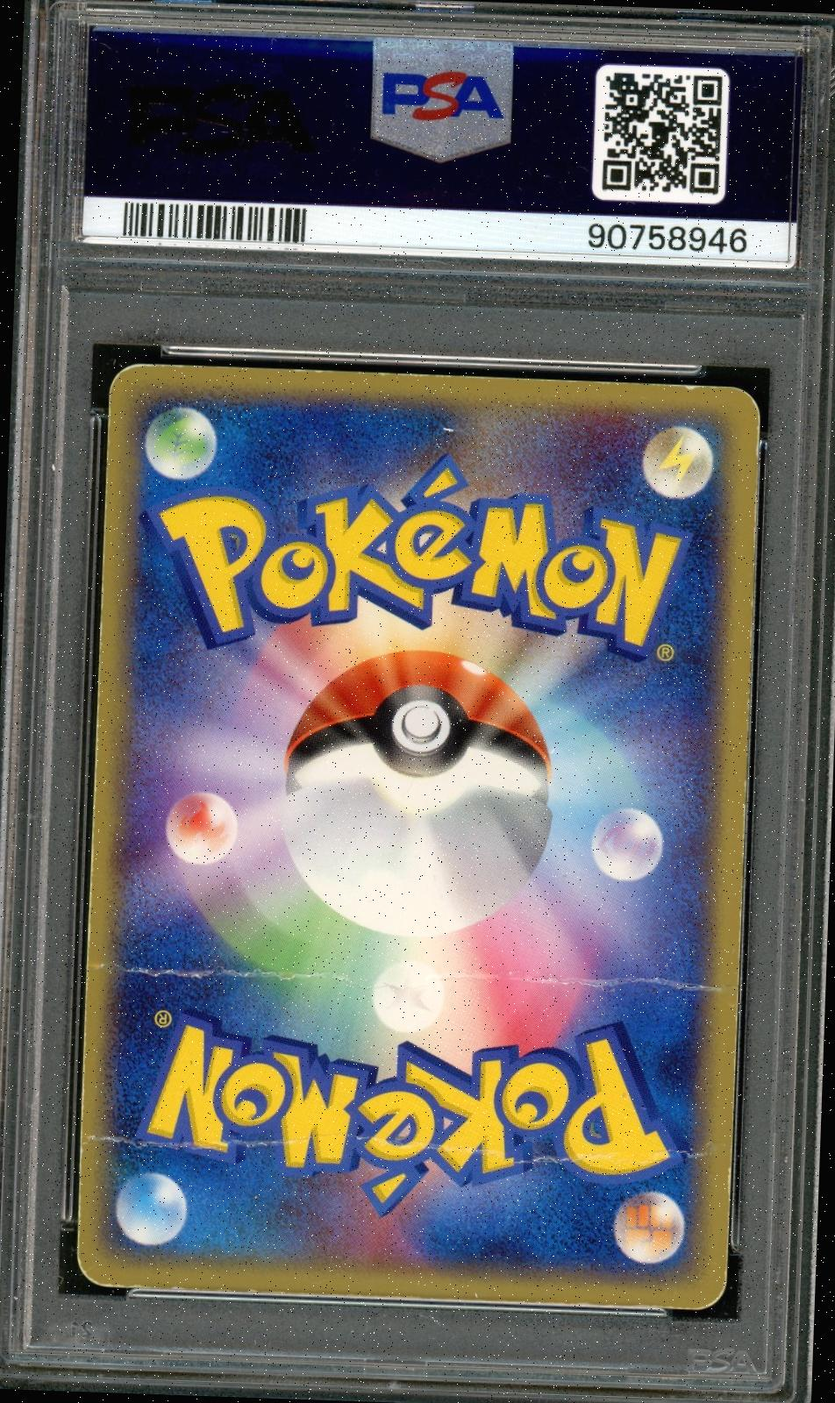card-2UtV: (75, 363, 761, 1311)
